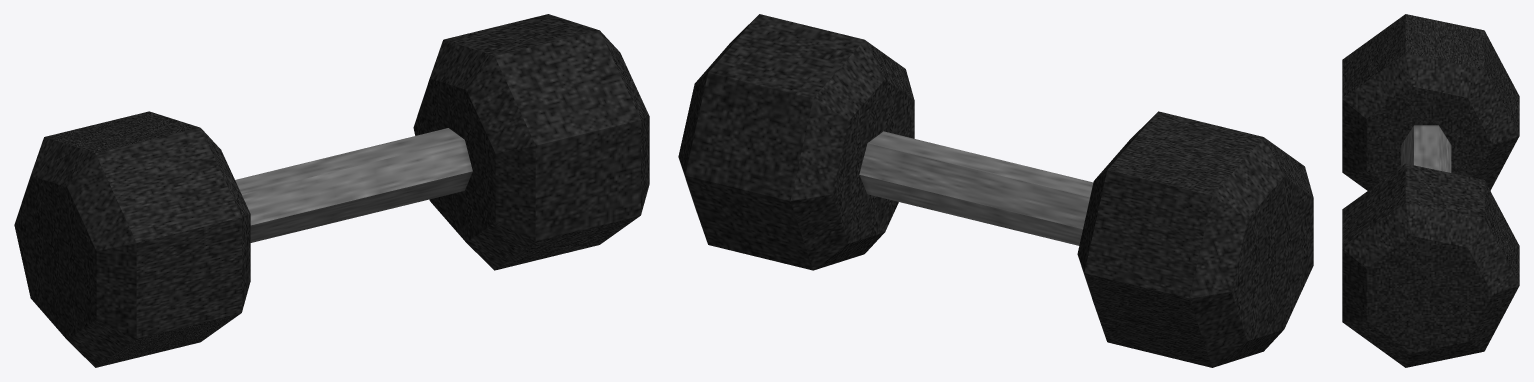
The model's file is dumbBell.glb.
3 views of the same model, side by side, from view 1: azimuth 30°, elevation 25°; view 2: azimuth 150°, elevation 25°; view 3: azimuth 270°, elevation 25° (orthographic). The views are drawn at different scales.
Visible parts, largest first — view 1: Cylinder; view 2: Cylinder; view 3: Cylinder.
Boxes of the visible parts, <box> form: Cylinder: <box>14,14,649,367</box>; Cylinder: <box>678,14,1313,367</box>; Cylinder: <box>1342,14,1519,367</box>.
Size of the model in its own units: 7.07 by 2.62 by 2.55.
1 material, 1 textured.
